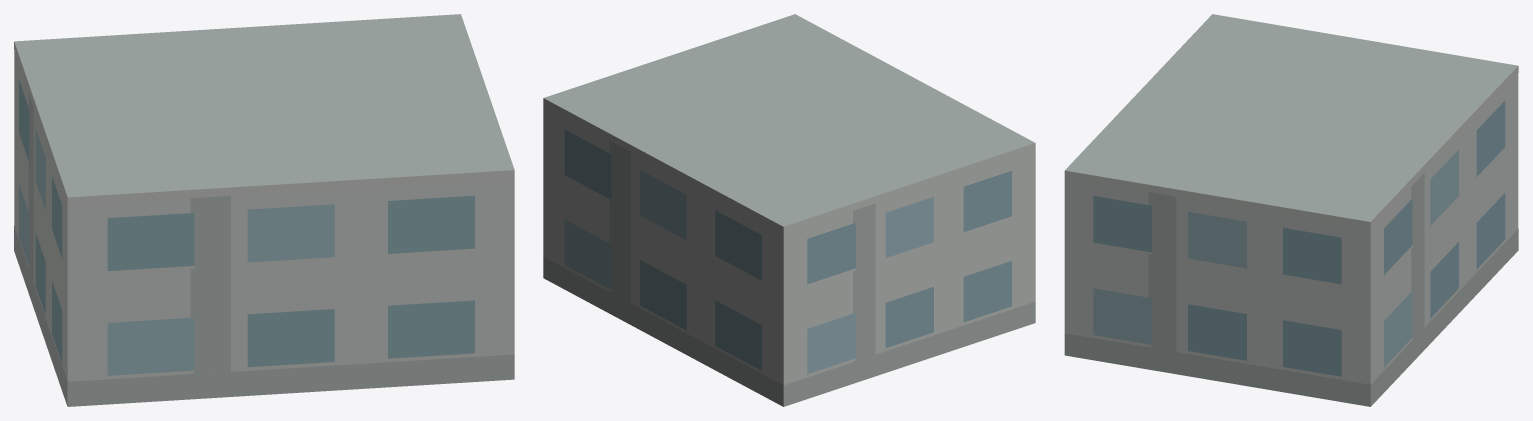
The model's file is residential-2857bd4e-84e0-4a6f-bdfb-f39858c48597.glb.
3 renders of one model, left to right at view 1: azimuth 30°, elevation 25°; view 2: azimuth 150°, elevation 25°; view 3: azimuth 270°, elevation 25°, orthographic. The views are drawn at different scales.
Parts seen in each view (by area): view 1: residential-2857bd4e-84e0-4a6f-bdfb-f39858c48597.tmp; view 2: residential-2857bd4e-84e0-4a6f-bdfb-f39858c48597.tmp; view 3: residential-2857bd4e-84e0-4a6f-bdfb-f39858c48597.tmp.
Boxes of the visible parts, box(x1,y1,x2,y2) form: residential-2857bd4e-84e0-4a6f-bdfb-f39858c48597.tmp: box(14, 14, 514, 406); residential-2857bd4e-84e0-4a6f-bdfb-f39858c48597.tmp: box(543, 14, 1035, 406); residential-2857bd4e-84e0-4a6f-bdfb-f39858c48597.tmp: box(1064, 14, 1518, 406).
Size of the model in its own units: 14.73 by 6.1 by 13.58.
